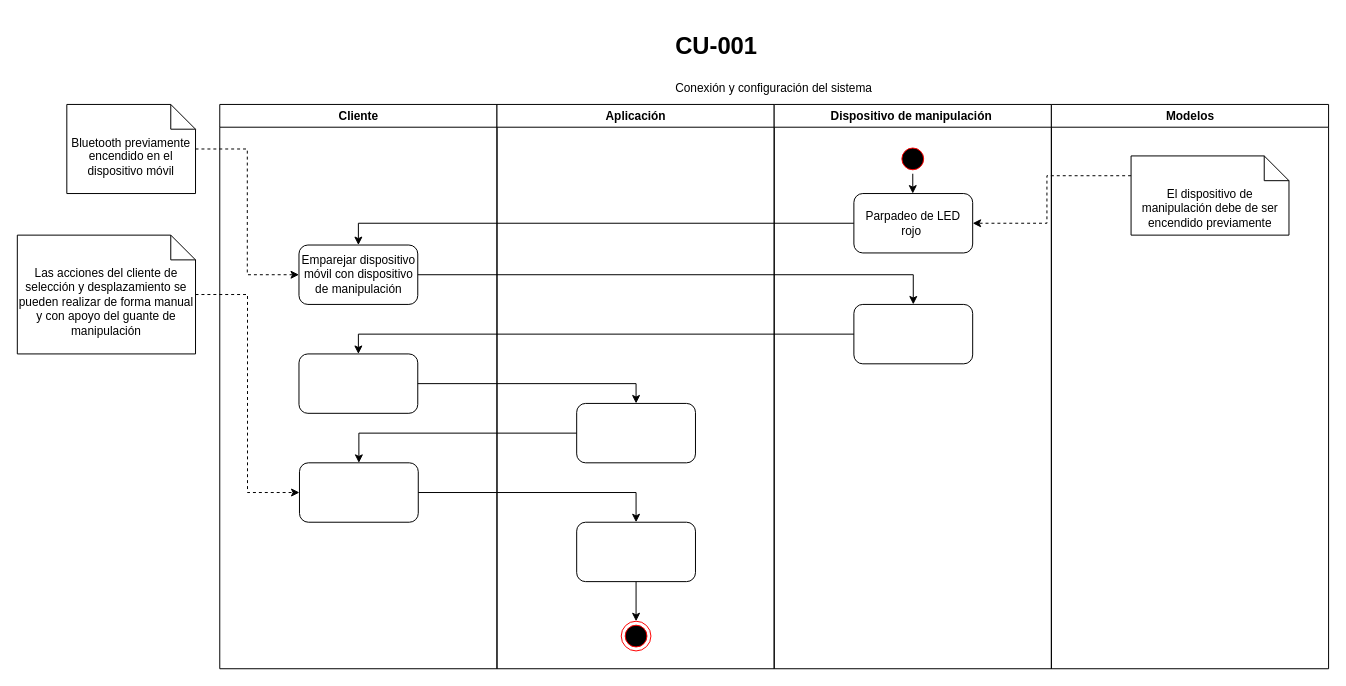
Some shapes in this 1346 by 686 pixel diagram are drawn without their labels. Here are the shapes that lost their labels. From the top down, the centre of each, then its label:
At [913,333]: "Emición de LED verde por 3 segundos".
At [358,383]: "Inicia la aplicación".
At [635,432]: "Se muestra menú de configuración de sistema".
At [358,492]: "El usuario selecciona la modalidad del sistema deseada".
At [635,551]: "Se muestra el menú de la interfaz deseada por el usuario".
